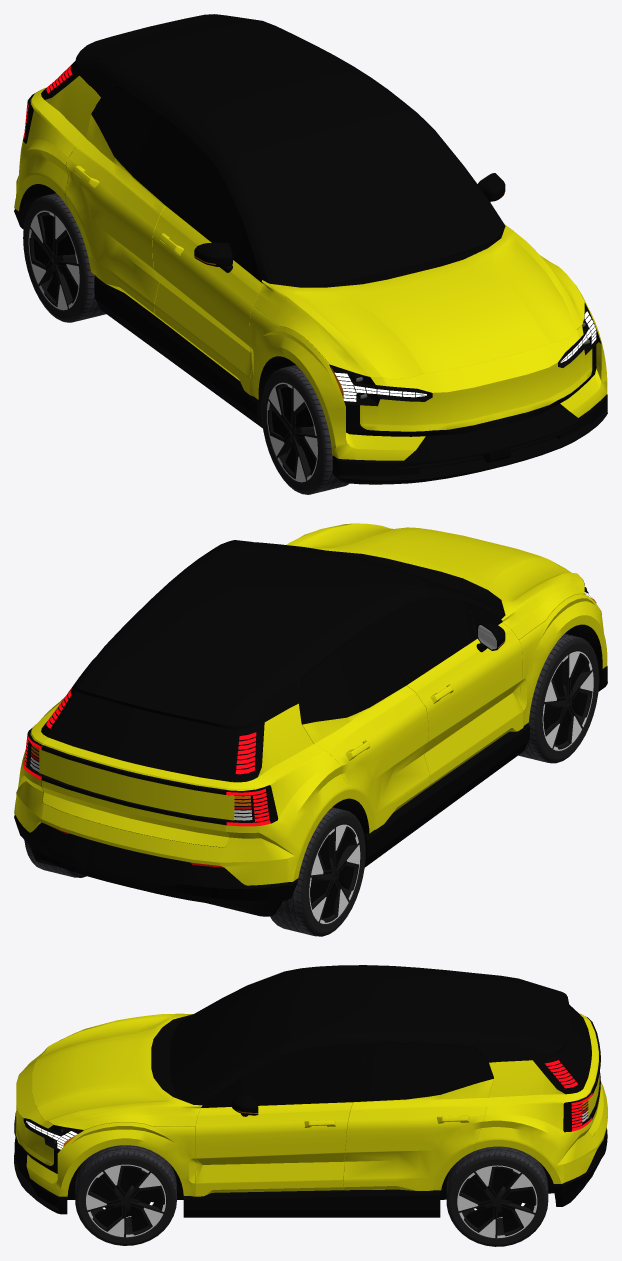
File: volvo_ex30_-_low_poly_comp-v1.glb
3 views of the same model, one above another, from view 1: azimuth 30°, elevation 25°; view 2: azimuth 150°, elevation 25°; view 3: azimuth 270°, elevation 25° (orthographic). The views are drawn at different scales.
Parts seen in each view (by area): view 1: Body, RRrim, FRrim, FRtire, RRtire; view 2: Body, FRrim, RRrim, RRtire, FRtire; view 3: Body, FLrim, RLrim, FLtire, RLtire.
Part boxes in pixels (x1,y1,x2,y2): Body: (14,14,607,484); RRrim: (28,210,79,310); FRrim: (267,382,317,482); FRtire: (261,365,349,494); RRtire: (23,191,106,322); Body: (14,523,607,916); FRrim: (542,651,593,750); RRrim: (309,824,360,923); RRtire: (270,807,365,936); FRtire: (518,633,599,763); Body: (14,965,607,1217); FLrim: (86,1164,165,1237); RLrim: (457,1165,537,1238); FLtire: (75,1145,176,1245); RLtire: (446,1146,548,1246).
Bounding box in the file's own units: 1.33 × 1.05 × 2.86.
16 materials, 1 textured.
